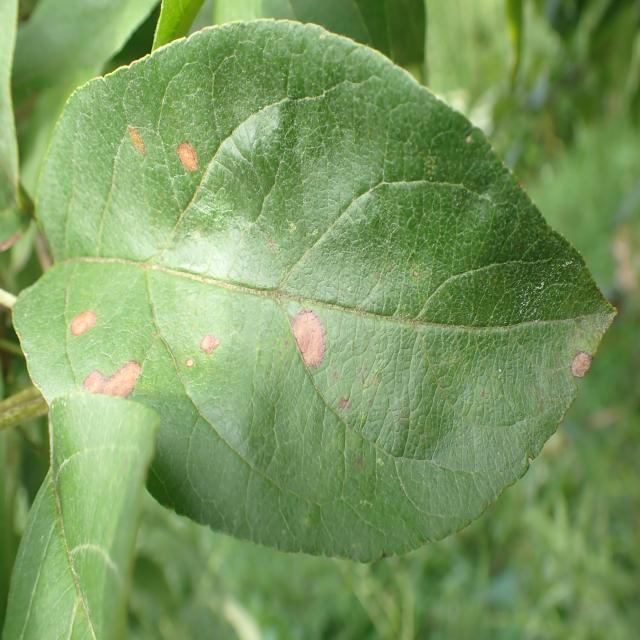Black Rot: (278, 294, 362, 412), (58, 350, 154, 415), (170, 298, 233, 377), (555, 327, 605, 412), (117, 104, 158, 204), (170, 130, 211, 200), (58, 303, 111, 342)
